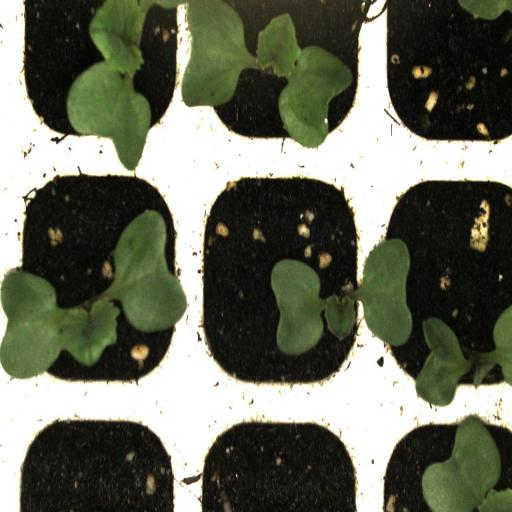seedling: (7, 154, 192, 404), (194, 156, 374, 405), (374, 156, 512, 414), (188, 0, 373, 155), (12, 0, 190, 154)
